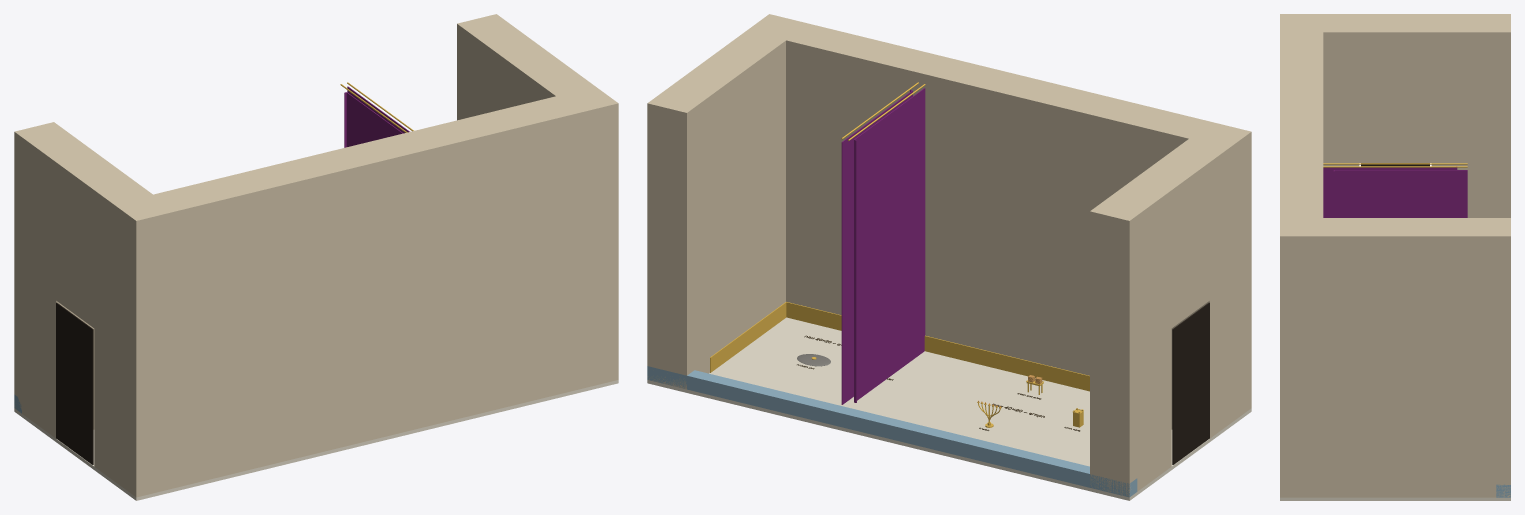
Rendered from temple_middot_interior.glb.
3 renders of one model, left to right at view 1: azimuth 30°, elevation 25°; view 2: azimuth 150°, elevation 25°; view 3: azimuth 270°, elevation 25°, orthographic. The views are drawn at different scales.
Visible parts, largest first — view 1: הכותל הצפוני, הכותל המערבי, פתח ההיכל – דרום, פתח ההיכל – צפון, פתח ההיכל – משקוף, פתח ההיכל – פתח כהה, רצפת ההיכל, הפרוכת החיצונית – פתח דרומי; view 2: הכותל הצפוני, הכותל המערבי, רצפת ההיכל, פתח ההיכל – צפון, הפרוכת החיצונית – פתח דרומי, הכותל הדרומי – חתך, פתח ההיכל – דרום, פתח ההיכל – משקוף, פתח ההיכל – פתח כהה, הפרוכת הפנימית – פתח צפוני, חיפוי זהב צפוני, חיפוי זהב מערבי (+1 smaller); view 3: הכותל המערבי, הכותל הצפוני, פתח ההיכל – צפון, פתח ההיכל – משקוף, הפרוכת הפנימית – פתח צפוני, פתח ההיכל – דרום, הפרוכת החיצונית – פתח דרומי, רצפת ההיכל, מוט הפרוכת החיצונית, מוט הפרוכת הפנימית, פתח ההיכל – פתח כהה.
Part boxes in pixels (<box>): הכותל הצפוני: <box>113,86,618,497</box>; הכותל המערבי: <box>457,14,618,389</box>; פתח ההיכל – דרום: <box>94,180,175,496</box>; פתח ההיכל – צפון: <box>14,122,95,438</box>; פתח ההיכל – משקוף: <box>56,152,133,327</box>; פתח ההיכל – פתח כהה: <box>56,302,93,464</box>; רצפת ההיכל: <box>14,380,618,500</box>; הפרוכת החיצונית – פתח דרומי: <box>346,92,403,146</box>; הכותל הצפוני: <box>747,14,1251,424</box>; הכותל המערבי: <box>647,14,808,389</box>; רצפת ההיכל: <box>647,317,1251,500</box>; פתח ההיכל – צפון: <box>1090,180,1171,496</box>; הפרוכת החיצונית – פתח דרומי: <box>854,88,925,400</box>; הכותל הדרומי – חתך: <box>647,366,1137,497</box>; פתח ההיכל – דרום: <box>1170,130,1251,438</box>; פתח ההיכל – משקוף: <box>1132,152,1209,327</box>; פתח ההיכל – פתח כהה: <box>1172,302,1209,464</box>; הפרוכת הפנימית – פתח צפוני: <box>841,90,912,404</box>; חיפוי זהב צפוני: <box>786,302,1089,391</box>; חיפוי זהב מערבי: <box>710,302,786,372</box>; הכותל המערבי: <box>1280,218,1510,497</box>; הכותל הצפוני: <box>1280,14,1323,497</box>; פתח ההיכל – צפון: <box>1431,14,1510,217</box>; פתח ההיכל – משקוף: <box>1359,14,1431,162</box>; הפרוכת הפנימית – פתח צפוני: <box>1334,170,1467,217</box>; פתח ההיכל – דרום: <box>1280,14,1359,166</box>; הפרוכת החיצונית – פתח דרומי: <box>1323,167,1456,217</box>; רצפת ההיכל: <box>1280,497,1510,500</box>; מוט הפרוכת החיצונית: <box>1323,163,1467,164</box>; מוט הפרוכת הפנימית: <box>1323,166,1467,167</box>; פתח ההיכל – פתח כהה: <box>1361,163,1429,166</box>.
Size of the model in its own units: 36.58 by 20.25 by 16.
